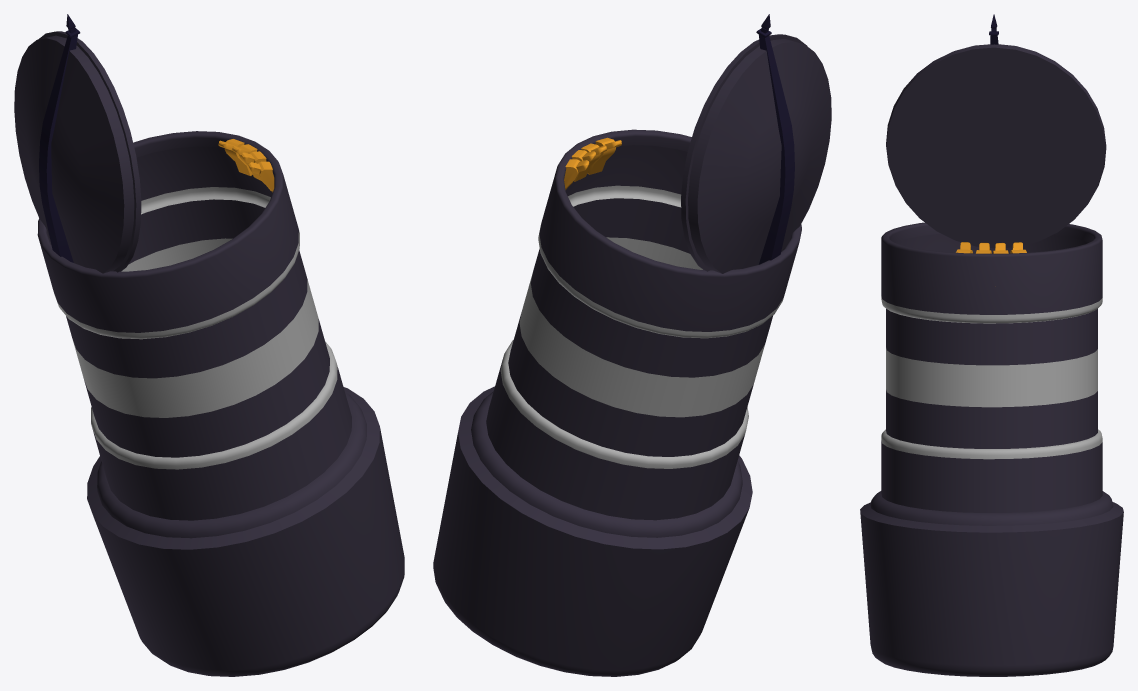
Rendered from AnikC.gltf.
3 renders of one model, left to right at view 1: azimuth 30°, elevation 25°; view 2: azimuth 150°, elevation 25°; view 3: azimuth 270°, elevation 25°, orthographic. The views are drawn at different scales.
Parts seen in each view (by area): view 1: Cube; view 2: Cube; view 3: Cube.
Boxes of the visible parts, x1,y1,x2,y2 form: Cube: (14,14,404,676); Cube: (433,14,831,676); Cube: (860,14,1123,676).
Bounding box in the file's own units: 1.72 × 3.23 × 1.32.
